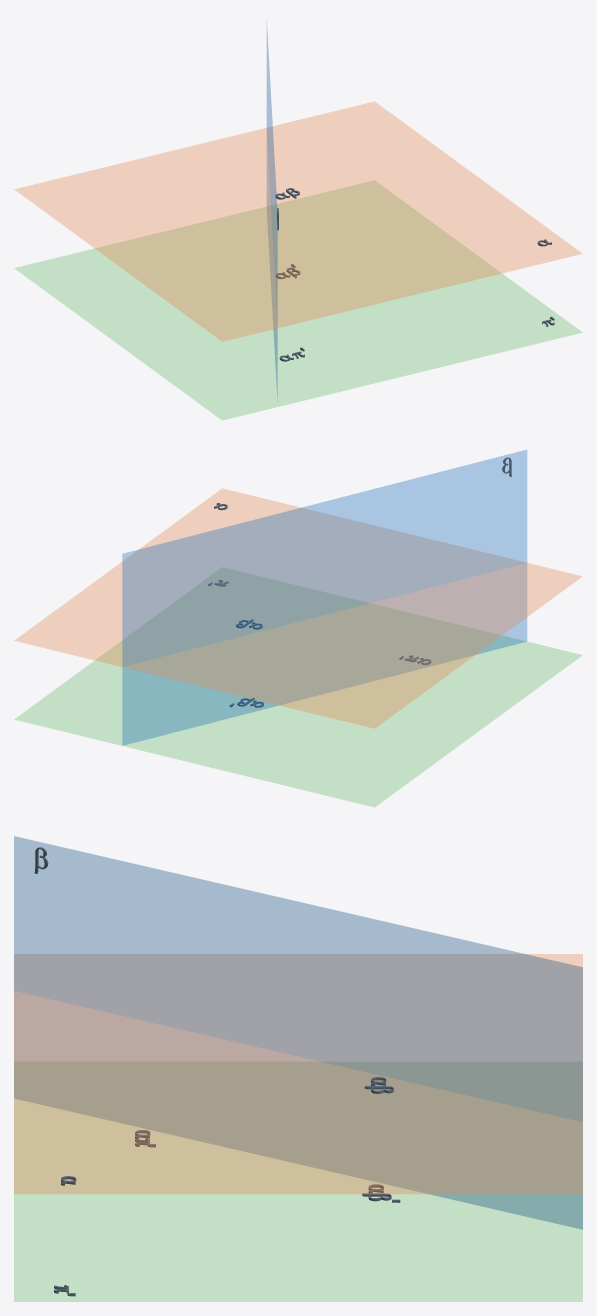
File: int_pv_ph.glb
The picture shows the model from 3 angles, top to bottom: view 1: azimuth 30°, elevation 25°; view 2: azimuth 150°, elevation 25°; view 3: azimuth 270°, elevation 25°; orthographic projection. The views are drawn at different scales.
Parts seen in each view (by area): view 1: root; view 2: root; view 3: root.
Part boxes in pixels (<box>): root: <box>14,32,582,420</box>; root: <box>14,450,582,807</box>; root: <box>14,836,582,1301</box>.
Bounding box in the file's own units: 2.54 × 1.29 × 2.54.
